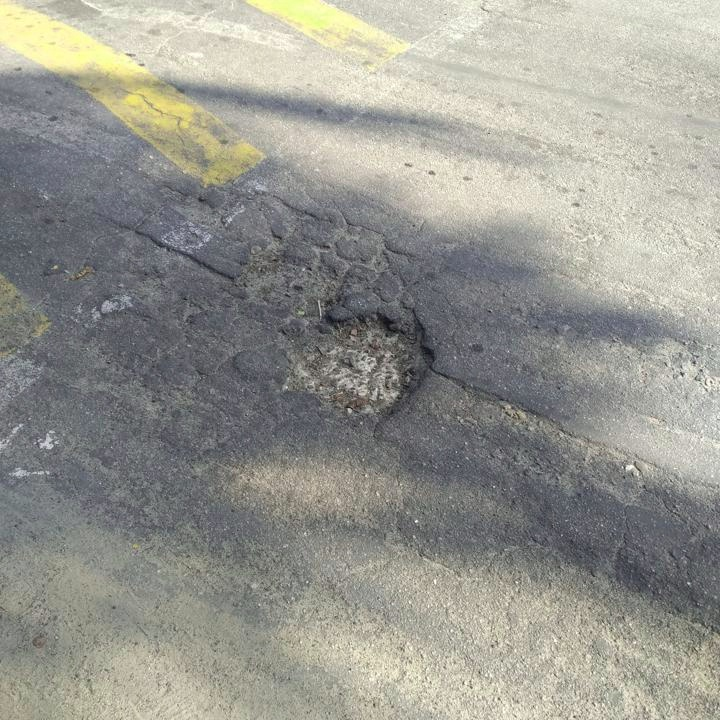pothole: (273, 302, 438, 423), (230, 246, 344, 311), (156, 182, 218, 226)
